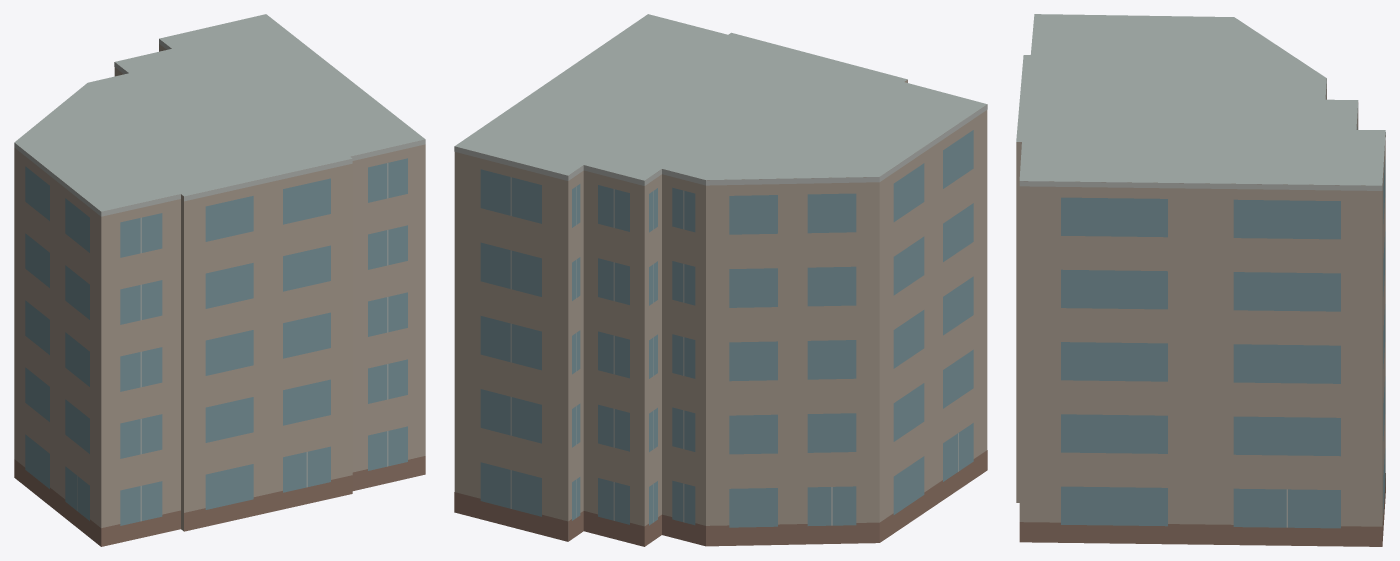
The model's file is survey-upis-32711378.glb.
3 views of the same model, side by side, from view 1: azimuth 30°, elevation 25°; view 2: azimuth 150°, elevation 25°; view 3: azimuth 270°, elevation 25° (orthographic). The views are drawn at different scales.
Parts seen in each view (by area): view 1: survey-upis-32711378.tmp; view 2: survey-upis-32711378.tmp; view 3: survey-upis-32711378.tmp.
Boxes of the visible parts, x1,y1,x2,y2 form: survey-upis-32711378.tmp: (14,14,425,546); survey-upis-32711378.tmp: (454,14,987,546); survey-upis-32711378.tmp: (1016,14,1385,546).
Bounding box in the file's own units: 16.83 × 16.5 × 15.31.
